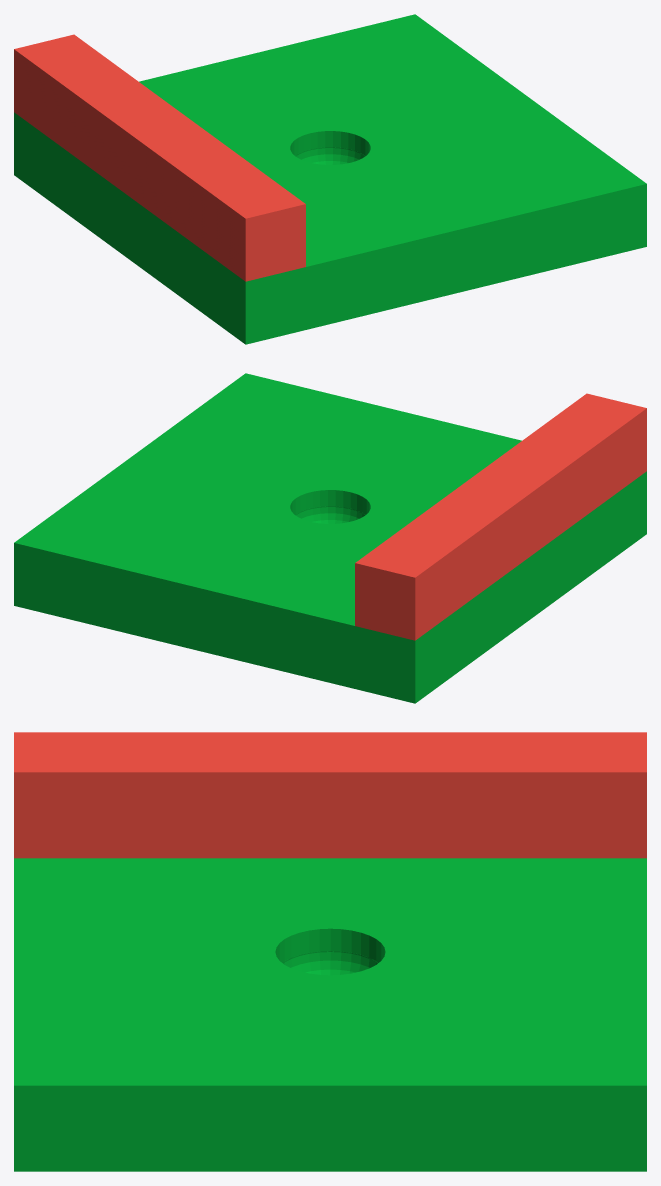
File: hole_single.fbx
The picture shows the model from 3 angles, top to bottom: view 1: azimuth 30°, elevation 25°; view 2: azimuth 150°, elevation 25°; view 3: azimuth 270°, elevation 25°; orthographic projection. The views are drawn at different scales.
Visible parts, largest first — view 1: Green, Cube; view 2: Green, Cube; view 3: Green, Cube.
Boxes of the visible parts, left/top/right/bottom form: Green: left=14, top=14, right=646, bottom=344; Cube: left=14, top=34, right=305, bottom=281; Green: left=14, top=373, right=646, bottom=703; Cube: left=355, top=393, right=646, bottom=640; Green: left=14, top=858, right=646, bottom=1171; Cube: left=14, top=732, right=646, bottom=858.
Size of the model in its own units: 200 by 60 by 200.
